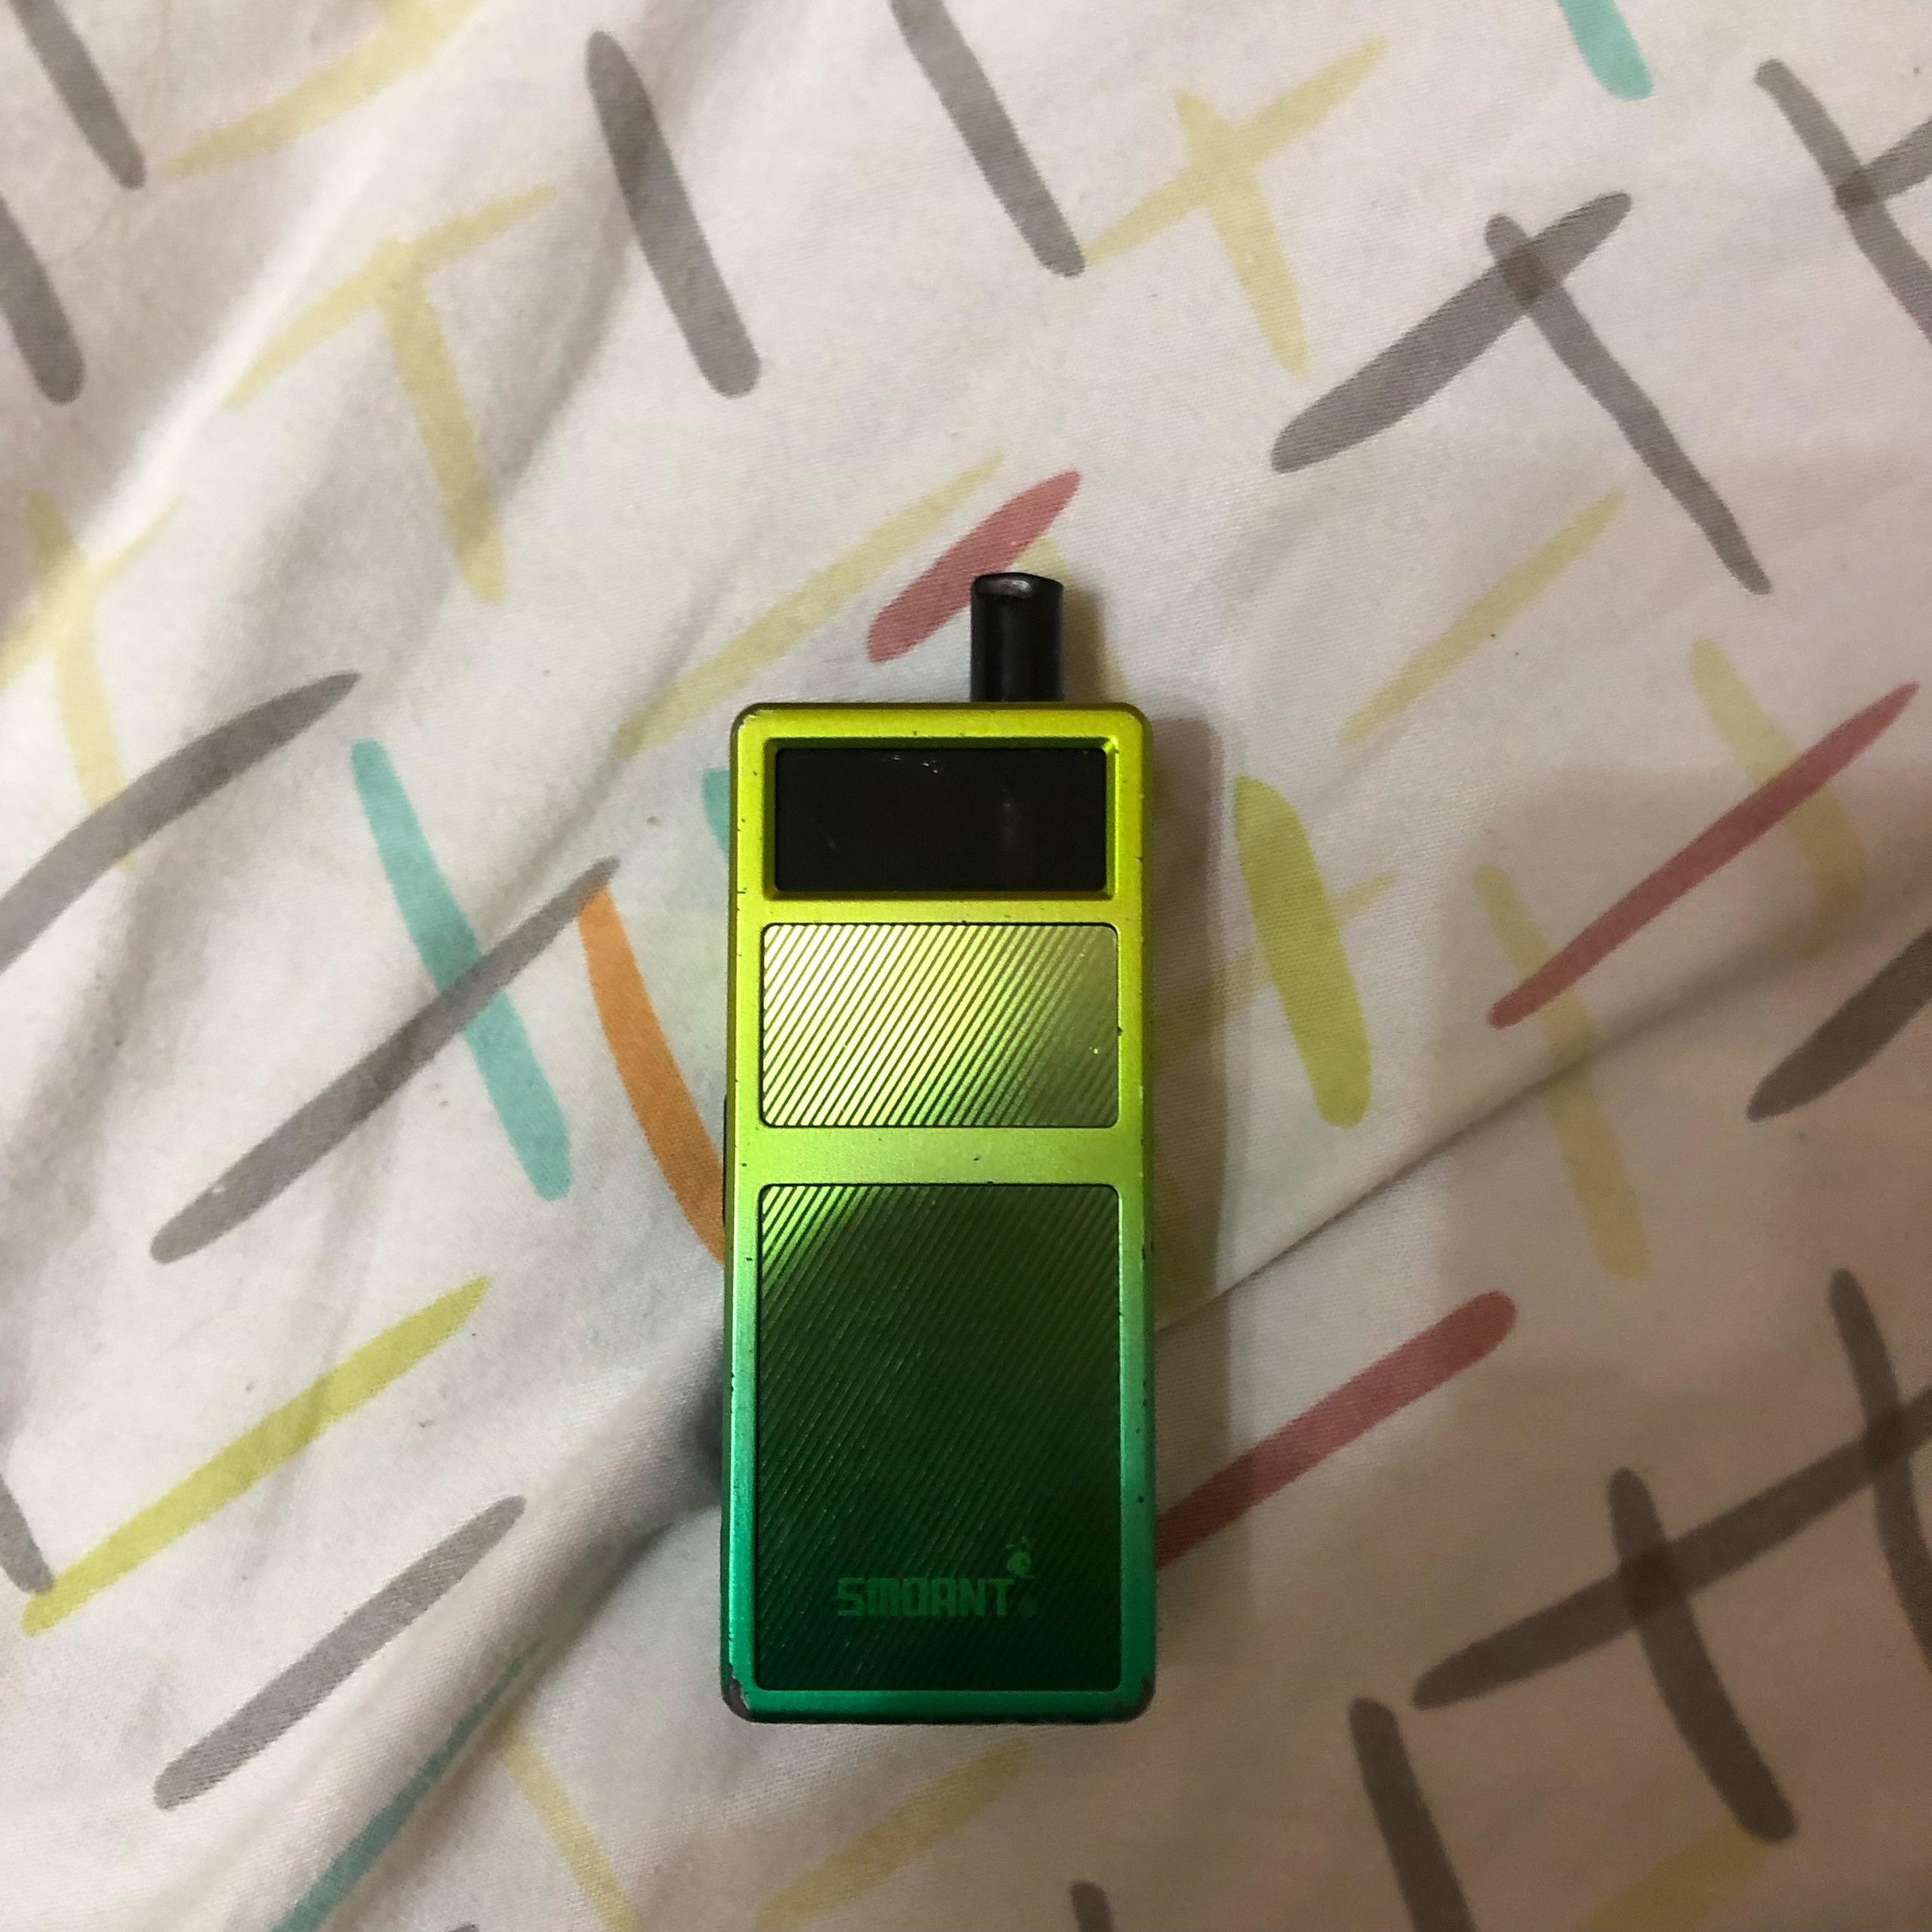Vape: (722, 571, 1155, 1721)
